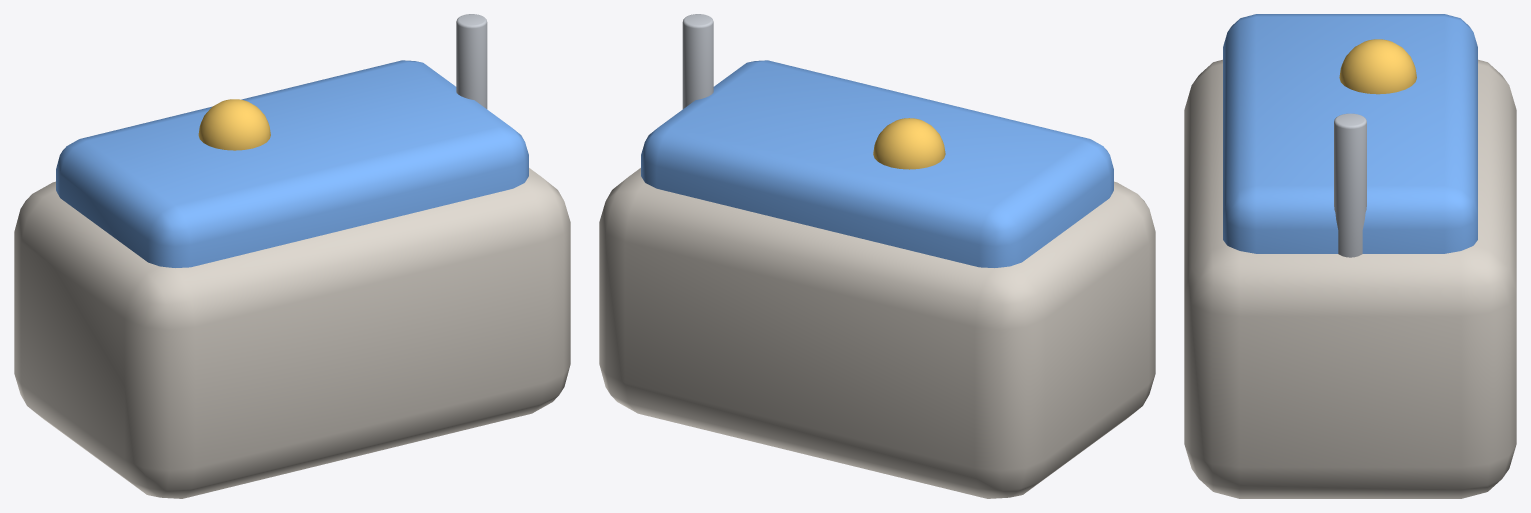
File: bathtub.glb
The picture shows the model from 3 angles, left to right: view 1: azimuth 30°, elevation 25°; view 2: azimuth 150°, elevation 25°; view 3: azimuth 270°, elevation 25°; orthographic projection. The views are drawn at different scales.
Parts seen in each view (by area): view 1: bathtub; view 2: bathtub; view 3: bathtub.
Boxes of the visible parts, left/top/right/bottom form: bathtub: left=14, top=14, right=570, bottom=498; bathtub: left=599, top=14, right=1155, bottom=498; bathtub: left=1184, top=14, right=1516, bottom=498.
Size of the model in its own units: 0.98 by 0.75 by 0.6.
